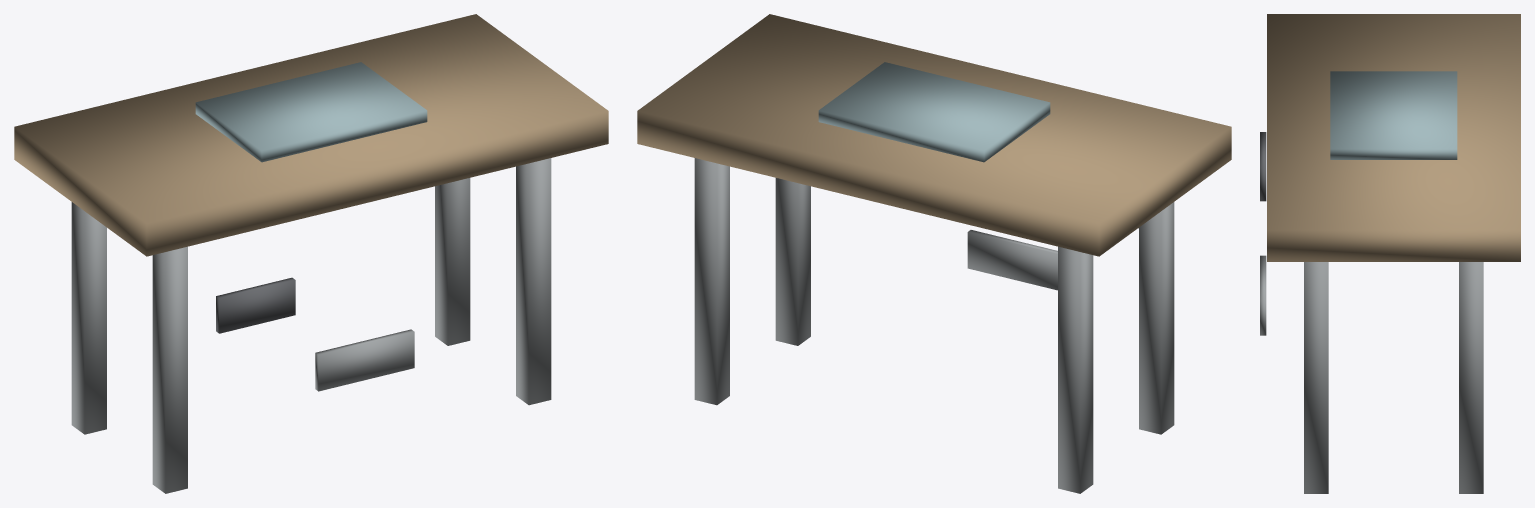
The model's file is material_inspection_table__weathered.glb.
3 views of the same model, side by side, from view 1: azimuth 30°, elevation 25°; view 2: azimuth 150°, elevation 25°; view 3: azimuth 270°, elevation 25° (orthographic). The views are drawn at different scales.
Visible parts, largest first — view 1: world; view 2: world; view 3: world.
Boxes of the visible parts, x1,y1,x2,y2 form: world: [14, 14, 608, 493]; world: [637, 14, 1231, 493]; world: [1260, 14, 1520, 493].
Size of the model in its own units: 1.45 by 0.9182 by 0.7391.
